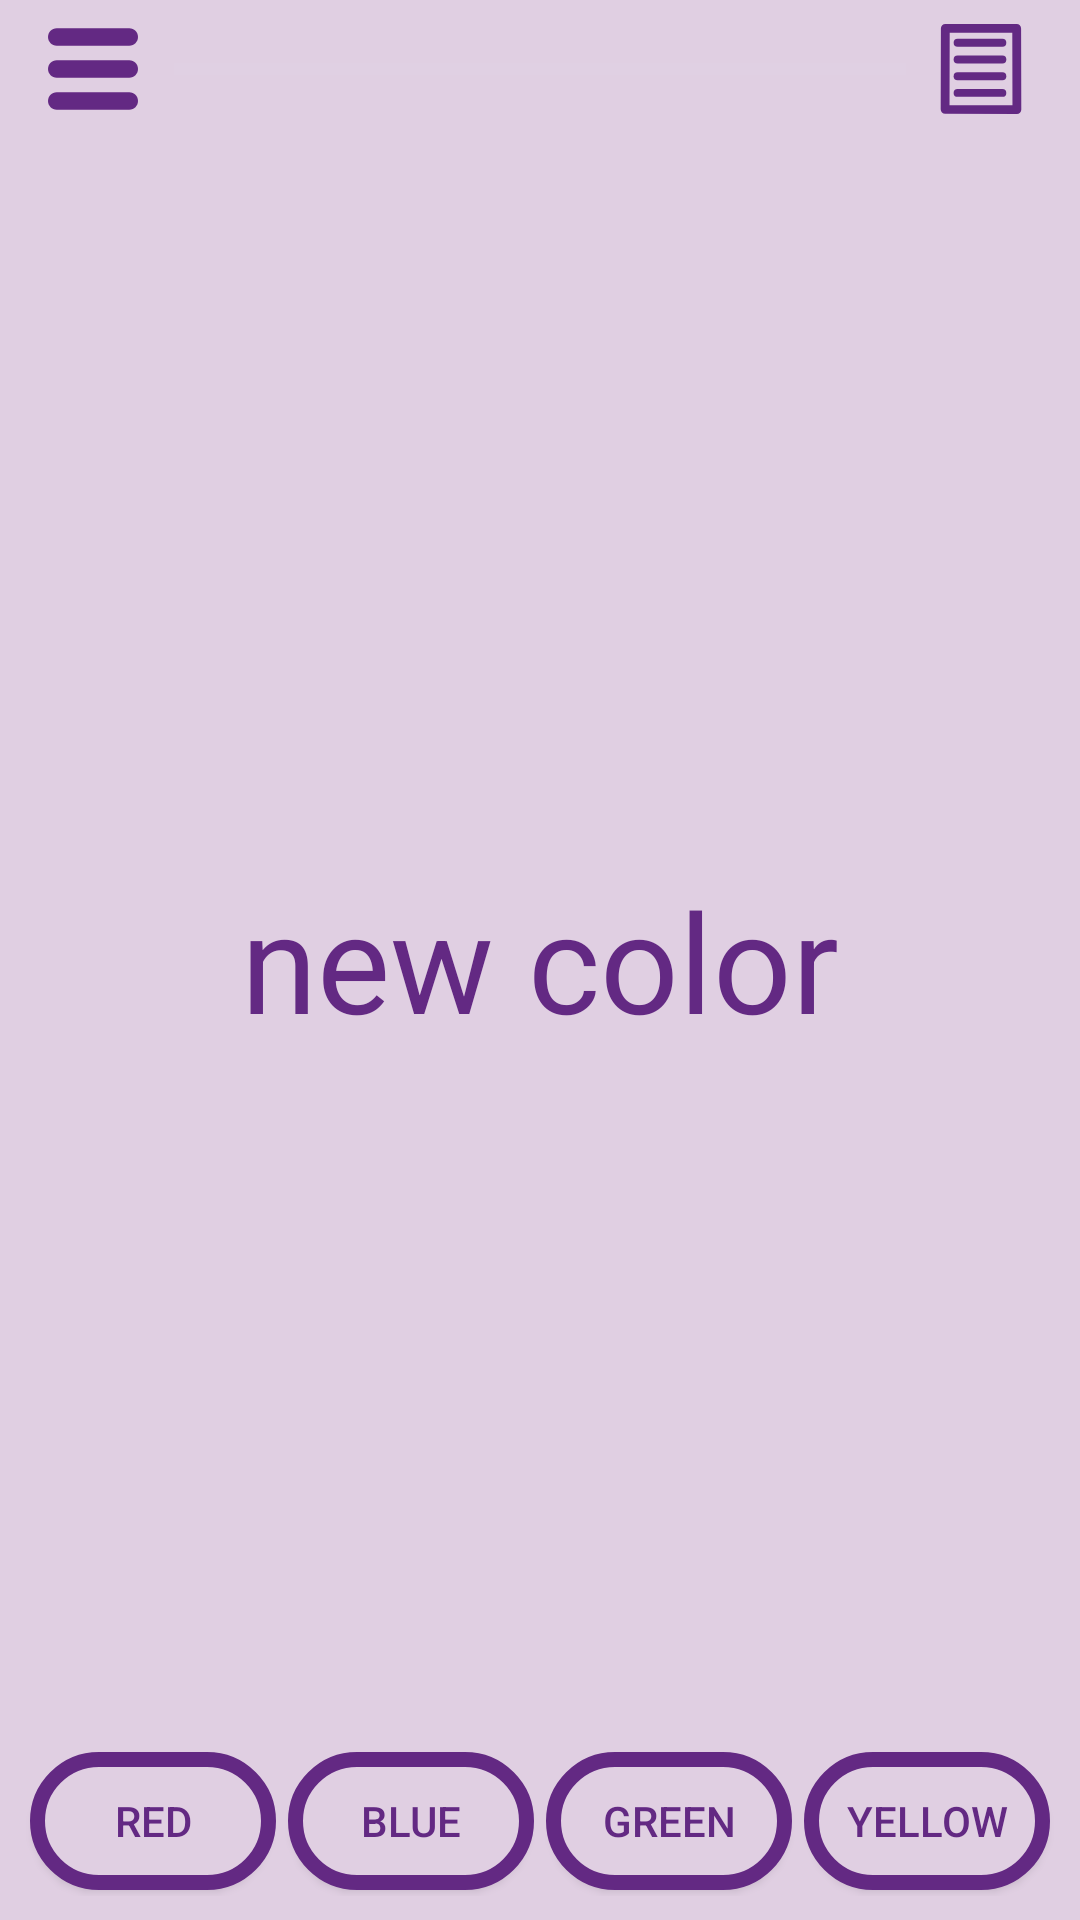

Icon bounding boxes for this 1080×1920 phone screenshot, format rect(x1, y1, x2, y2):
description: rect(940, 24, 1022, 114)
menu: rect(48, 28, 138, 110)
